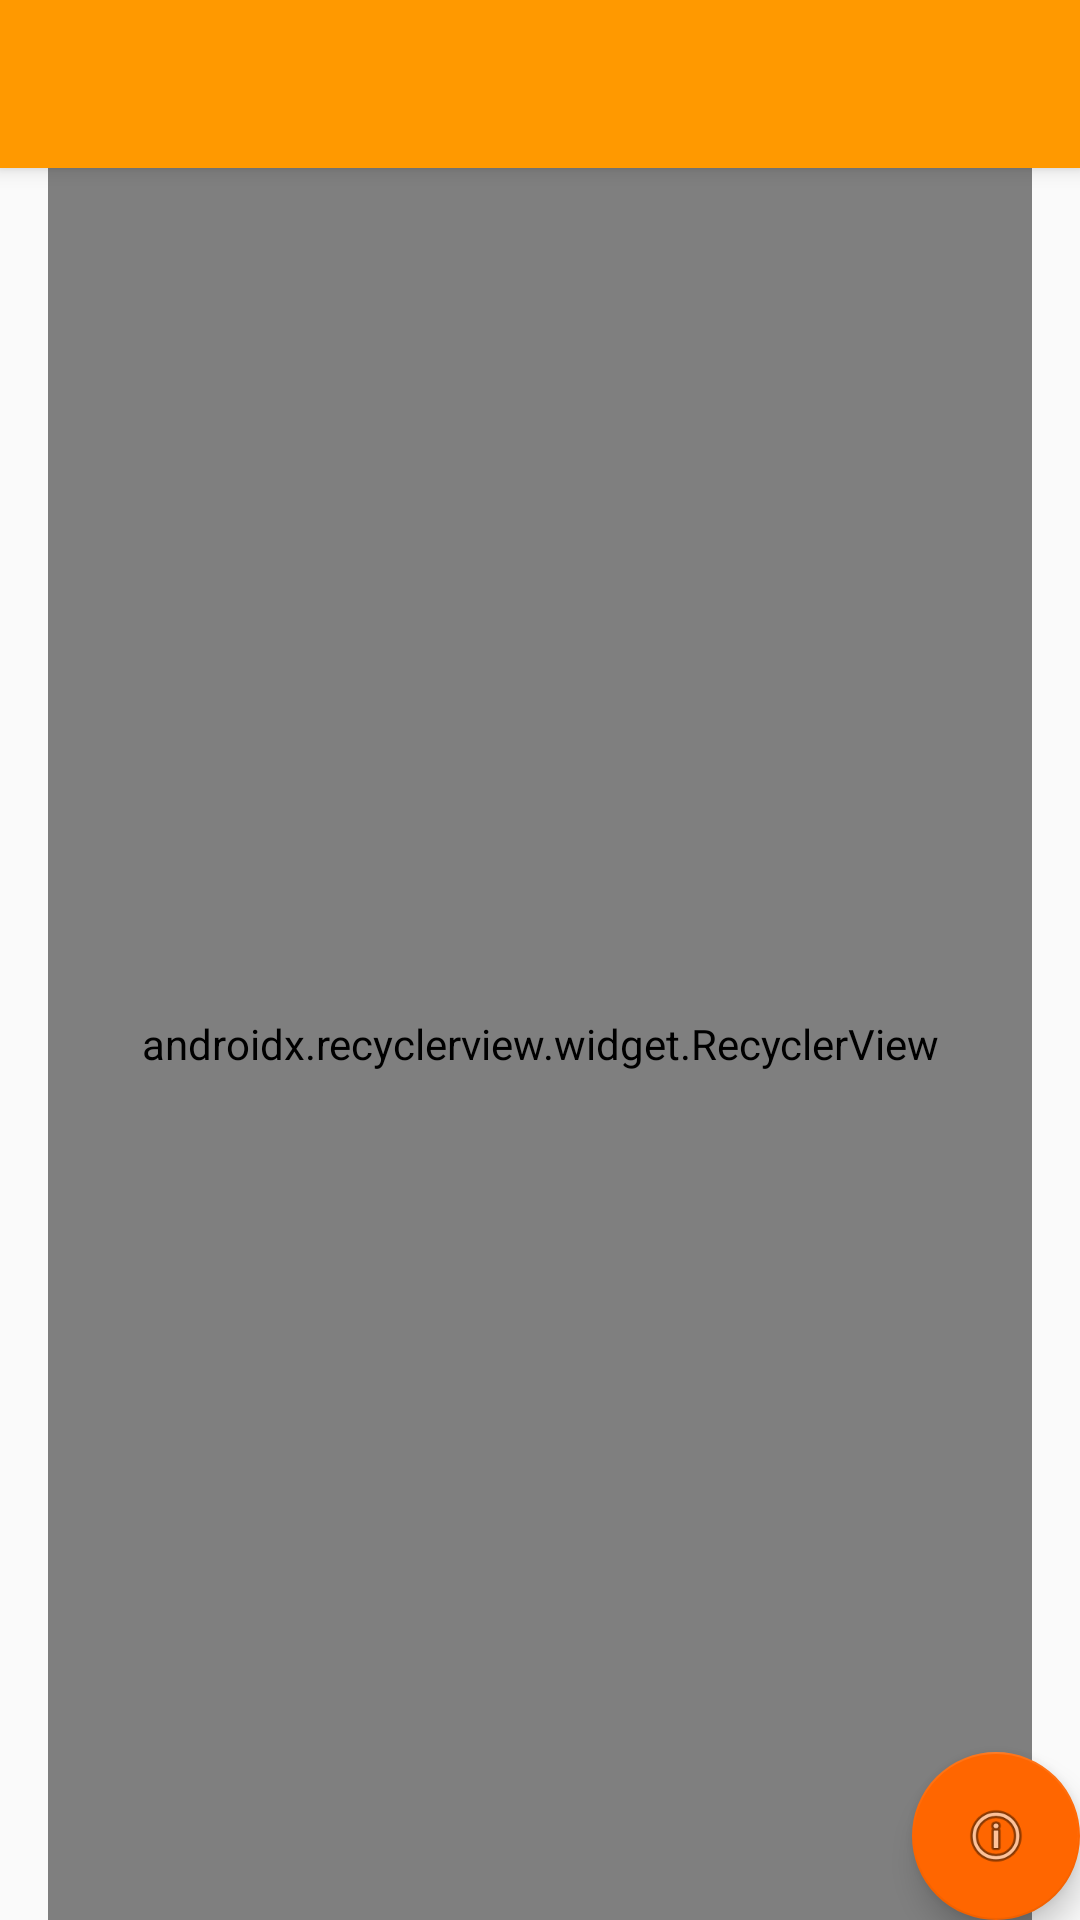

Icon bounding boxes for this 1080px x 1920px phone screenshot, format (x1, y1, x2, y2):
info details: (912, 1752, 1080, 1920)
